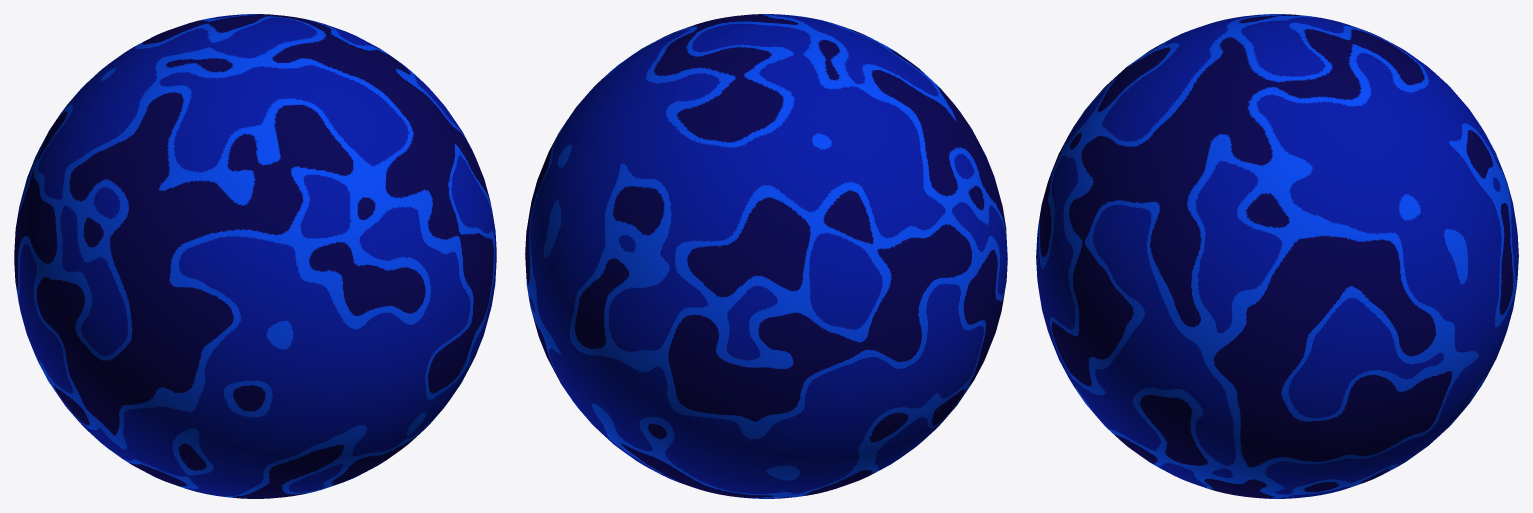
The model's file is BolaLucario.obj.
The picture shows the model from 3 angles, left to right: view 1: azimuth 30°, elevation 25°; view 2: azimuth 150°, elevation 25°; view 3: azimuth 270°, elevation 25°; orthographic projection.
Parts seen in each view (by area): view 1: sphere_Cube.029_Material.009; view 2: sphere_Cube.029_Material.009; view 3: sphere_Cube.029_Material.009.
Part boxes in pixels (x1=…): sphere_Cube.029_Material.009: x1=14, y1=14, x2=496, y2=498; sphere_Cube.029_Material.009: x1=525, y1=14, x2=1007, y2=498; sphere_Cube.029_Material.009: x1=1036, y1=14, x2=1518, y2=498.
Bounding box in the file's own units: 0.3194 × 0.3228 × 0.3194.
